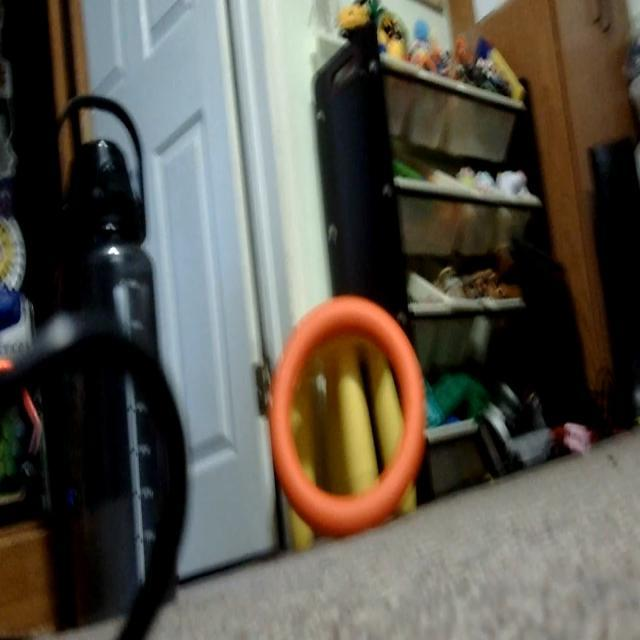note: (273, 294, 427, 529)
